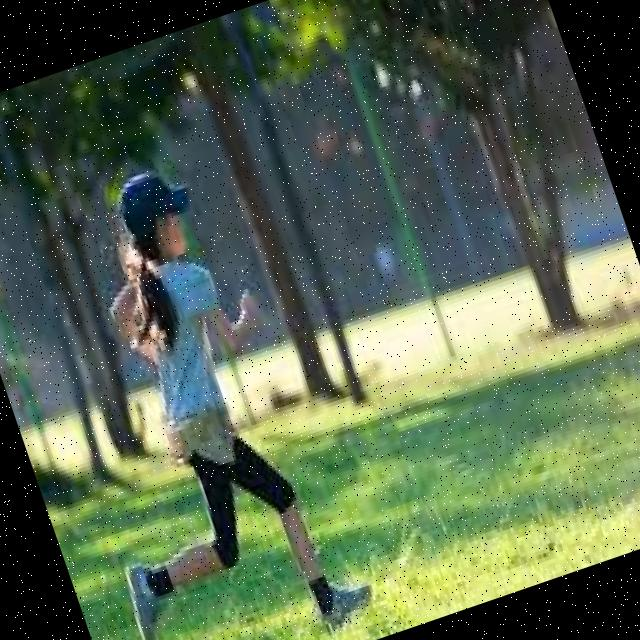Person: (0, 149, 376, 640)
